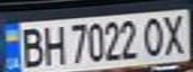0: (84, 19, 106, 63)
2: (118, 16, 142, 62), (103, 18, 124, 63)
7: (66, 20, 87, 65)
B: (15, 25, 48, 69)
H: (36, 23, 69, 66)
O: (139, 15, 169, 57)
X: (157, 11, 190, 56)
